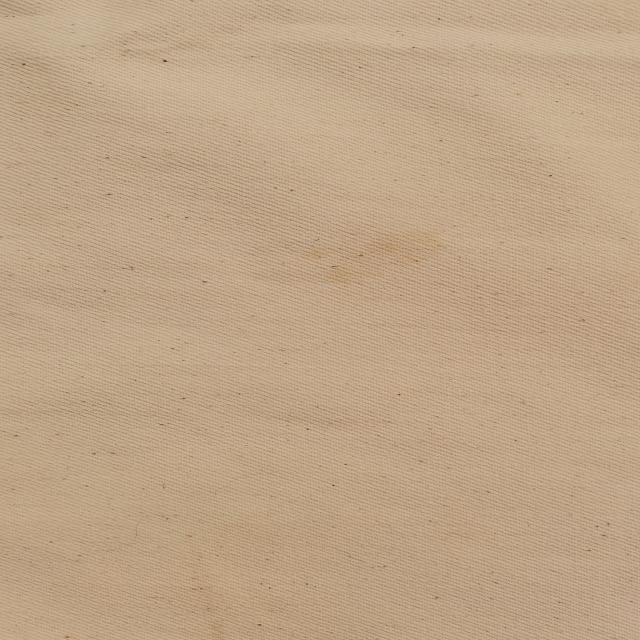taaaches: (287, 211, 445, 296)
